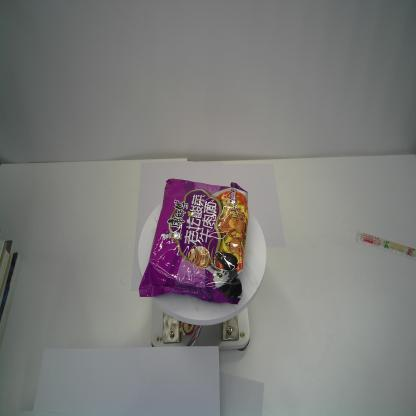Instant Noodles: (138, 177, 248, 305)
